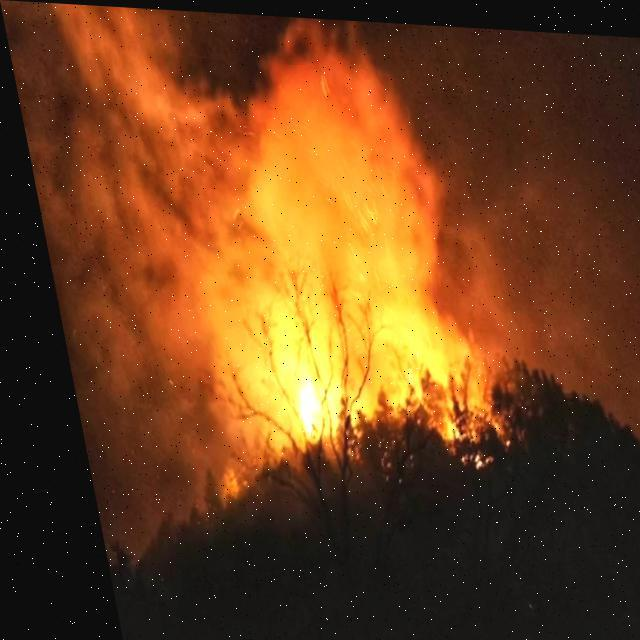Fire: (115, 94, 489, 494)
